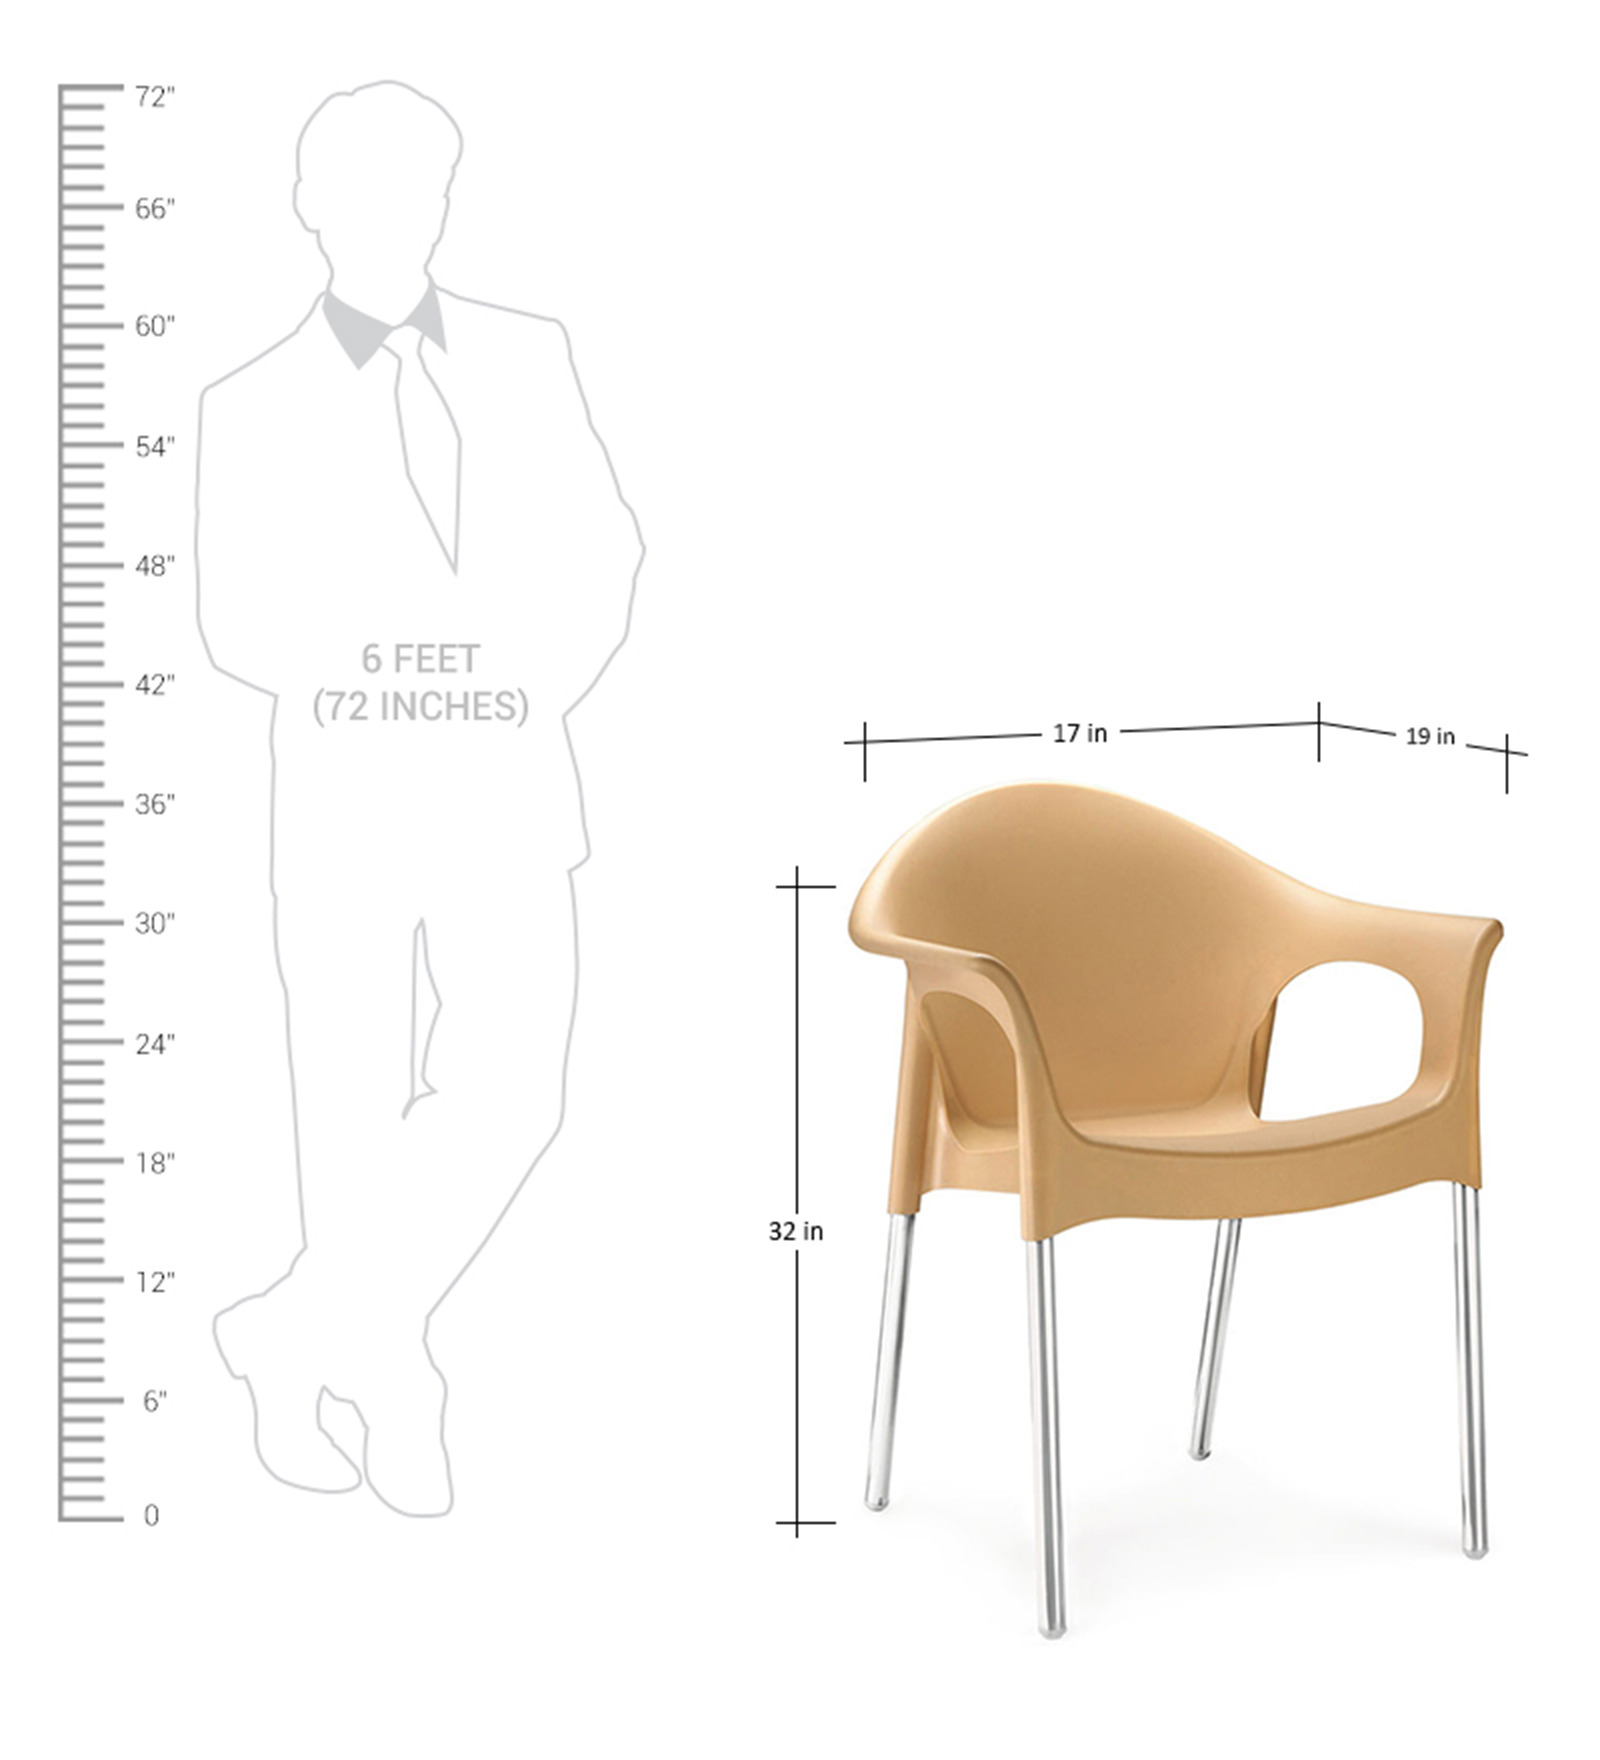Novella Chair in Biscuit Colour by Nilkamal: (852, 773, 1507, 1645)
